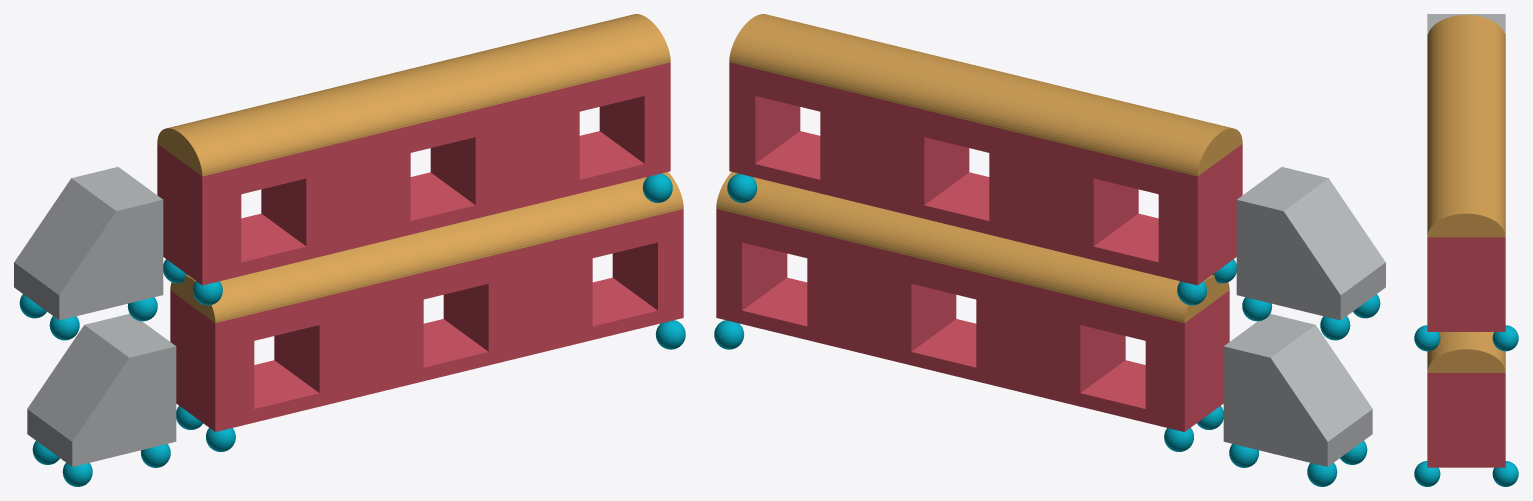
Rendered from 2 Train.glb.
3 renders of one model, left to right at view 1: azimuth 30°, elevation 25°; view 2: azimuth 150°, elevation 25°; view 3: azimuth 270°, elevation 25°, orthographic. The views are drawn at different scales.
Parts seen in each view (by area): view 1: Mesh_Mesh_head_geo.001_lambert2SG.001; view 2: Mesh_Mesh_head_geo.001_lambert2SG.001; view 3: Mesh_Mesh_head_geo.001_lambert2SG.001.
Boxes of the visible parts, x1,y1,x2,y2 form: Mesh_Mesh_head_geo.001_lambert2SG.001: (14,14,685,486); Mesh_Mesh_head_geo.001_lambert2SG.001: (714,14,1385,486); Mesh_Mesh_head_geo.001_lambert2SG.001: (1414,14,1518,486).
Bounding box in the file's own units: 48 × 23 × 8.
